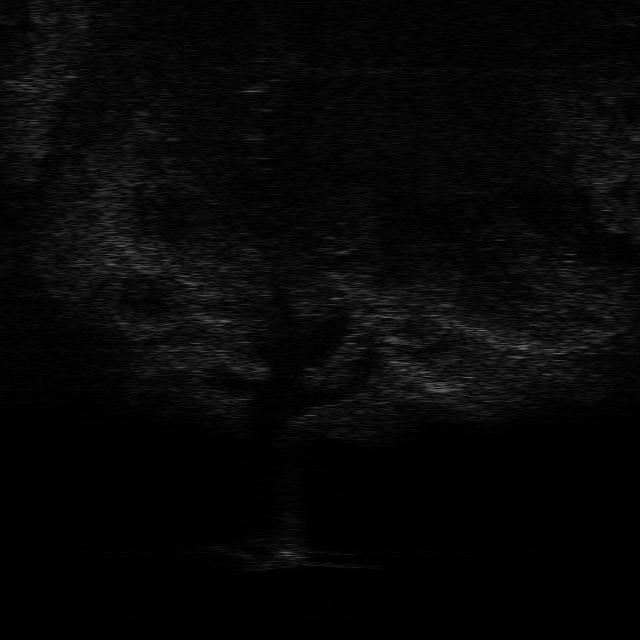plane: (208, 535, 376, 572)
